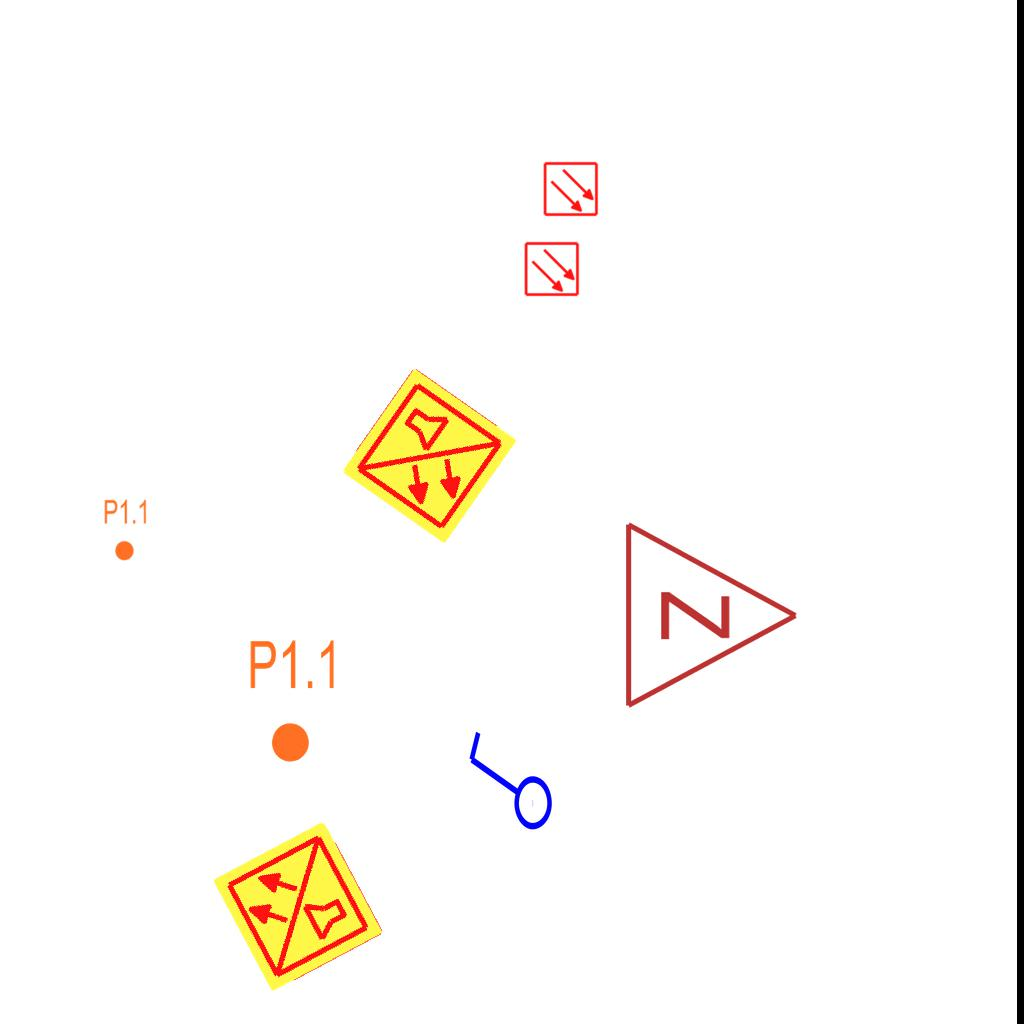Ausschalter: (459, 729, 555, 841)
Downlight_LED_Einbauleuchten_Flur_2: (247, 637, 340, 765), (103, 498, 149, 562)
OKW_Multisensormelder_(Kombination_optischer_Rauch-Kahlenmonoxid_Waerme-Melder): (337, 364, 521, 548), (208, 816, 388, 996)
RMO_Rauchmelder_optischer: (524, 241, 580, 297), (543, 161, 599, 217)
Zimmersignalleuchte: (611, 515, 811, 711)
